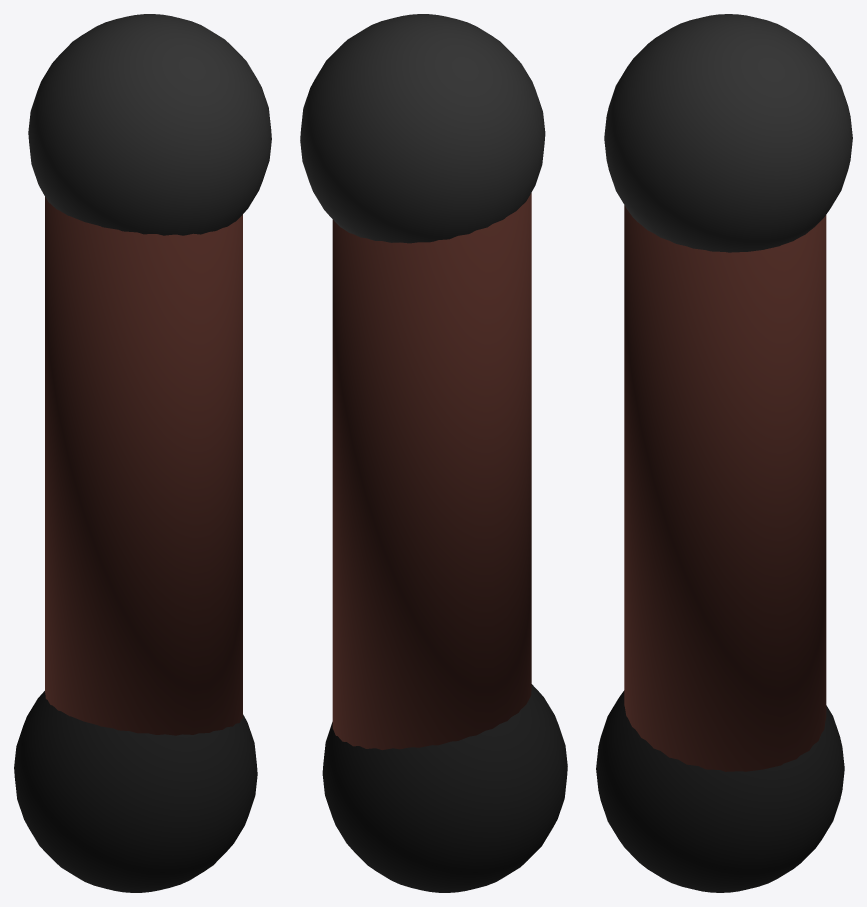
Rendered from debris3.fbx.
3 views of the same model, side by side, from view 1: azimuth 30°, elevation 25°; view 2: azimuth 150°, elevation 25°; view 3: azimuth 270°, elevation 25° (orthographic).
Visible parts, largest first — view 1: Sphere.001; view 2: Sphere.001; view 3: Sphere.001.
Boxes of the visible parts, bbox=[...] form: Sphere.001: bbox=[14, 14, 271, 892]; Sphere.001: bbox=[300, 14, 567, 892]; Sphere.001: bbox=[596, 14, 852, 892].
Size of the model in its own units: 146 by 517 by 139.
